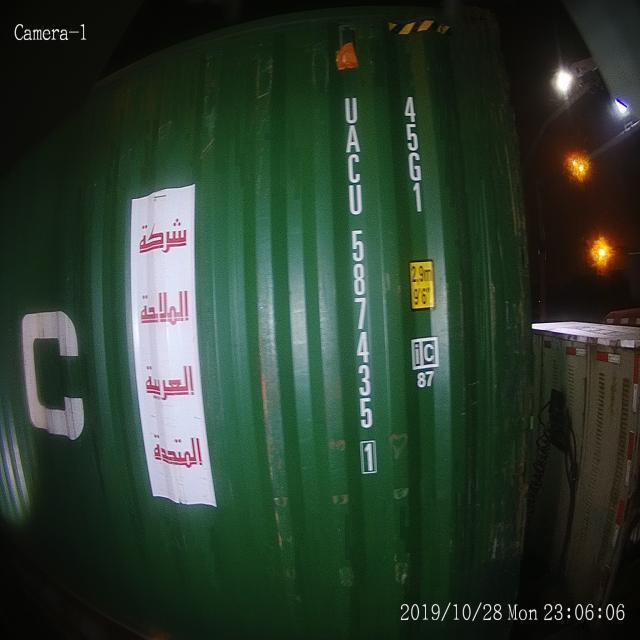ISO: (397, 92, 427, 220)
container_number: (342, 84, 376, 480)
